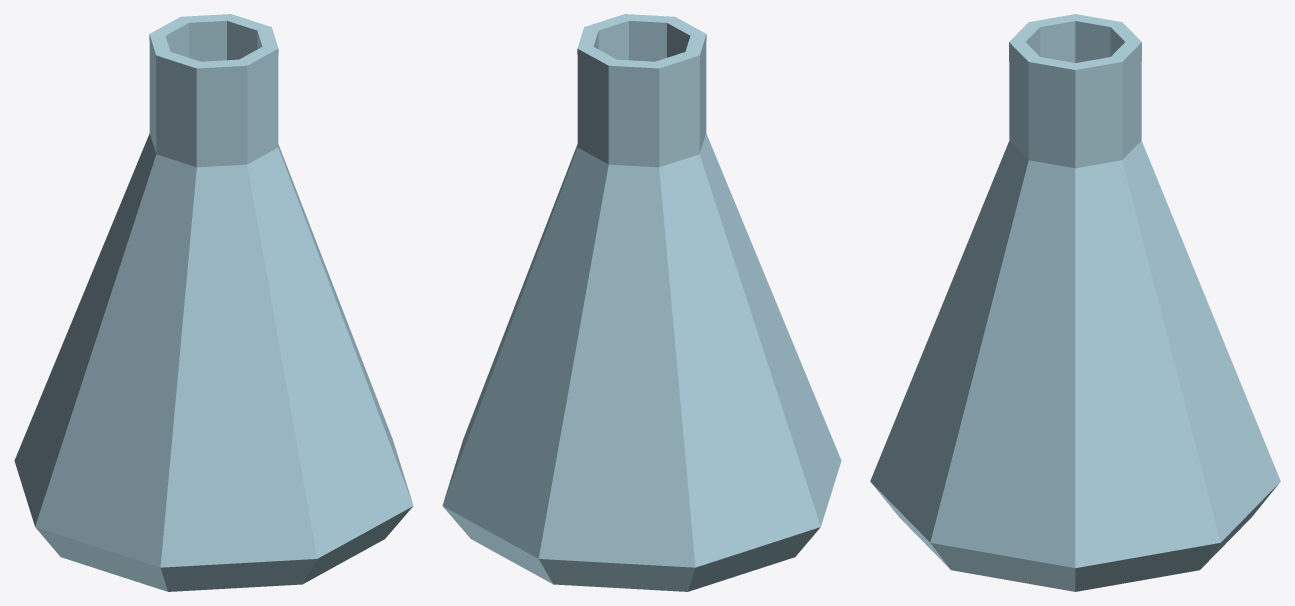
The model's file is SM_Flask_C.gltf.
3 views of the same model, side by side, from view 1: azimuth 30°, elevation 25°; view 2: azimuth 150°, elevation 25°; view 3: azimuth 270°, elevation 25° (orthographic).
Parts seen in each view (by area): view 1: SM_Flask_C; view 2: SM_Flask_C; view 3: SM_Flask_C.
Boxes of the visible parts, x1,y1,x2,y2 form: SM_Flask_C: (14, 14, 413, 591); SM_Flask_C: (442, 14, 841, 591); SM_Flask_C: (870, 14, 1280, 591).
Size of the model in its own units: 0.1266 by 0.1625 by 0.1266.
2 materials, 1 textured.
